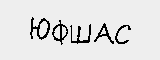А: (94, 22, 115, 44)
С: (114, 22, 132, 43)
Ф: (51, 19, 69, 45)
Ш: (69, 22, 92, 44)
Ю: (27, 15, 49, 40)
